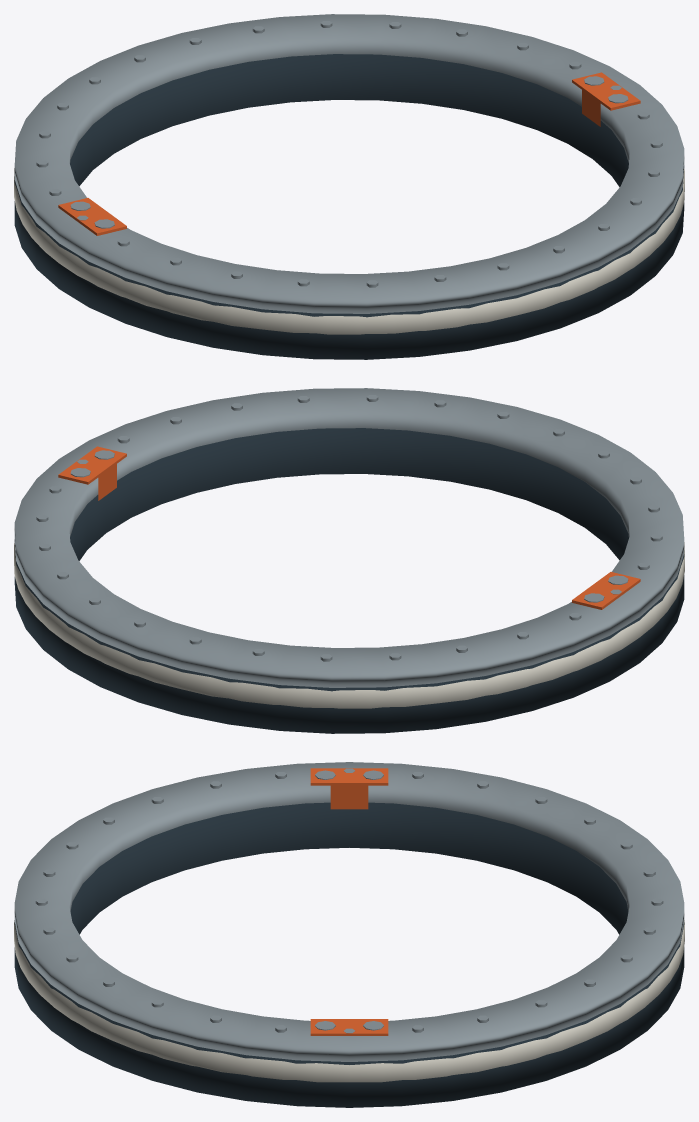
Rendered from ob_25_poyas.glb.
3 renders of one model, top to bottom at view 1: azimuth 30°, elevation 25°; view 2: azimuth 150°, elevation 25°; view 3: azimuth 270°, elevation 25°, orthographic.
Visible parts, largest first — view 1: ob_25_poyas.mesh_JUGRE_·_bead-blasted_titanium, ob_25_poyas.mesh_JUGRE_·_graphite_composite, ob_25_poyas.mesh_JUGRE_·_bone_ceramic, ob_25_poyas.latch_right.mesh_JUGRE_·_oxide_orange, ob_25_poyas.latch_left.mesh_JUGRE_·_oxide_orange; view 2: ob_25_poyas.mesh_JUGRE_·_bead-blasted_titanium, ob_25_poyas.mesh_JUGRE_·_graphite_composite, ob_25_poyas.mesh_JUGRE_·_bone_ceramic, ob_25_poyas.latch_right.mesh_JUGRE_·_oxide_orange, ob_25_poyas.latch_left.mesh_JUGRE_·_oxide_orange; view 3: ob_25_poyas.mesh_JUGRE_·_bead-blasted_titanium, ob_25_poyas.mesh_JUGRE_·_graphite_composite, ob_25_poyas.mesh_JUGRE_·_bone_ceramic, ob_25_poyas.latch_left.mesh_JUGRE_·_oxide_orange, ob_25_poyas.latch_right.mesh_JUGRE_·_oxide_orange.
Part boxes in pixels (x1,y1,x2,y2): ob_25_poyas.mesh_JUGRE_·_bead-blasted_titanium: [14, 14, 684, 313]; ob_25_poyas.mesh_JUGRE_·_graphite_composite: [14, 54, 684, 359]; ob_25_poyas.mesh_JUGRE_·_bone_ceramic: [14, 168, 684, 334]; ob_25_poyas.latch_right.mesh_JUGRE_·_oxide_orange: [572, 72, 640, 126]; ob_25_poyas.latch_left.mesh_JUGRE_·_oxide_orange: [58, 198, 126, 235]; ob_25_poyas.mesh_JUGRE_·_bead-blasted_titanium: [14, 388, 684, 687]; ob_25_poyas.mesh_JUGRE_·_graphite_composite: [14, 428, 684, 733]; ob_25_poyas.mesh_JUGRE_·_bone_ceramic: [14, 542, 684, 708]; ob_25_poyas.latch_right.mesh_JUGRE_·_oxide_orange: [58, 446, 126, 500]; ob_25_poyas.latch_left.mesh_JUGRE_·_oxide_orange: [572, 572, 640, 609]; ob_25_poyas.mesh_JUGRE_·_bead-blasted_titanium: [14, 762, 684, 1061]; ob_25_poyas.mesh_JUGRE_·_graphite_composite: [14, 802, 684, 1107]; ob_25_poyas.mesh_JUGRE_·_bone_ceramic: [14, 920, 684, 1082]; ob_25_poyas.latch_left.mesh_JUGRE_·_oxide_orange: [310, 768, 388, 809]; ob_25_poyas.latch_right.mesh_JUGRE_·_oxide_orange: [310, 1019, 388, 1035].
Bounding box in the file's own units: 2.5 × 0.273 × 2.5.
